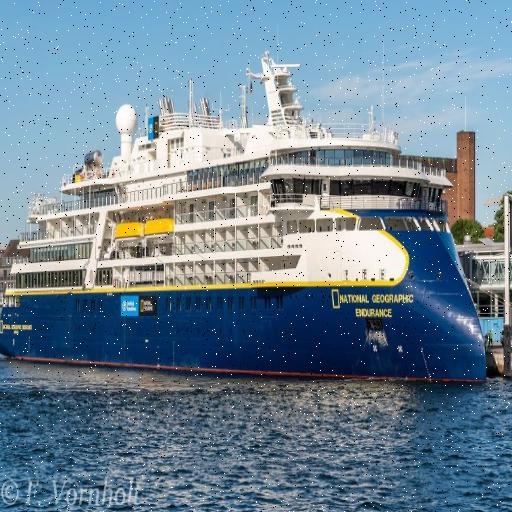cruises: (1, 45, 495, 392)
